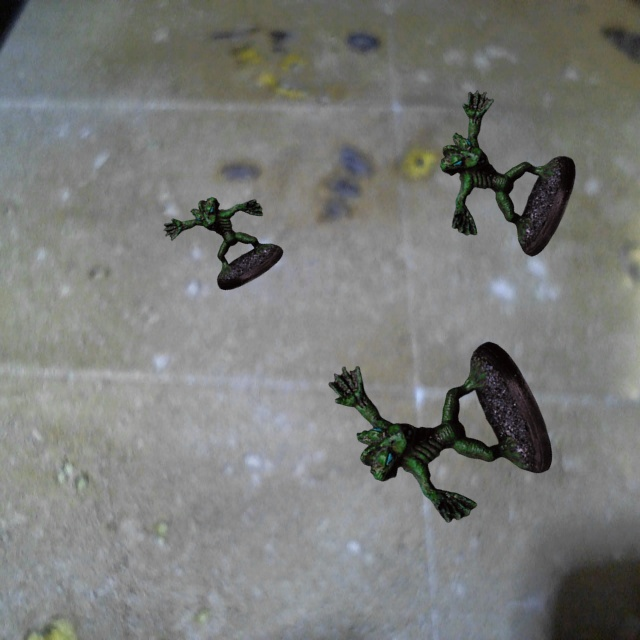pieza_juego: (328, 342, 551, 522), (440, 90, 575, 256), (163, 197, 282, 289)
